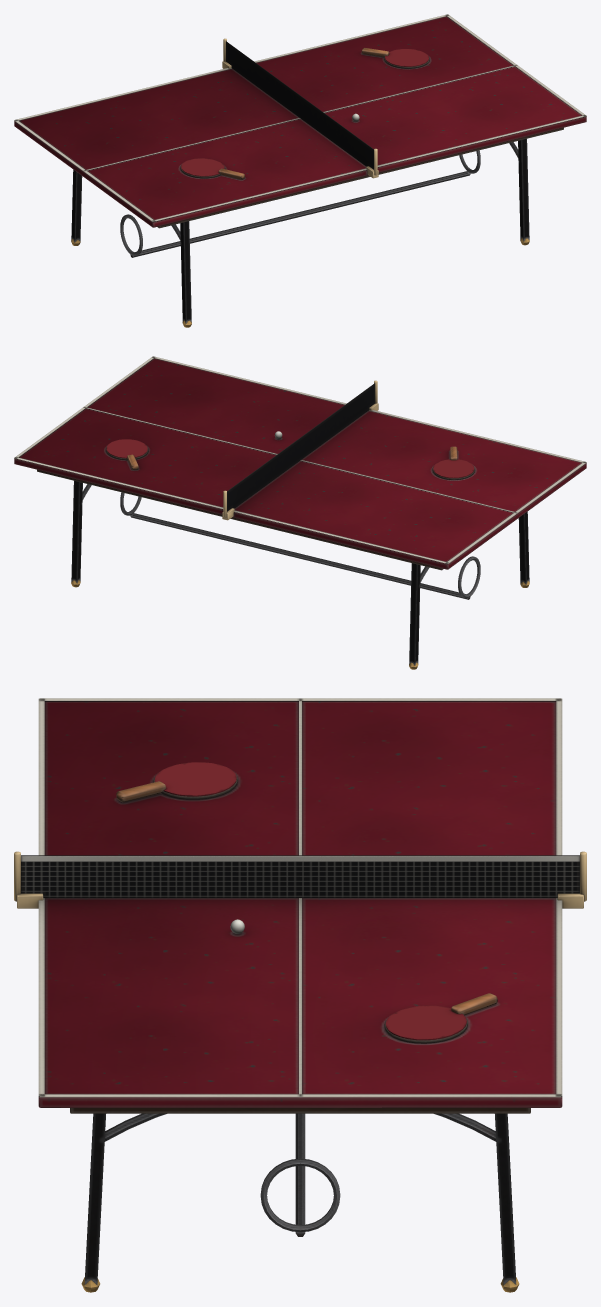
The model's file is PingPongTable.fbx.
3 renders of one model, top to bottom at view 1: azimuth 30°, elevation 25°; view 2: azimuth 150°, elevation 25°; view 3: azimuth 270°, elevation 25°, orthographic. The views are drawn at different scales.
Parts seen in each view (by area): view 1: PingPongTable; view 2: PingPongTable; view 3: PingPongTable.
Part boxes in pixels (<box>): PingPongTable: <box>14,14,586,327</box>; PingPongTable: <box>14,356,586,669</box>; PingPongTable: <box>14,698,586,1292</box>.
Bounding box in the file's own units: 900 × 300 × 547.
